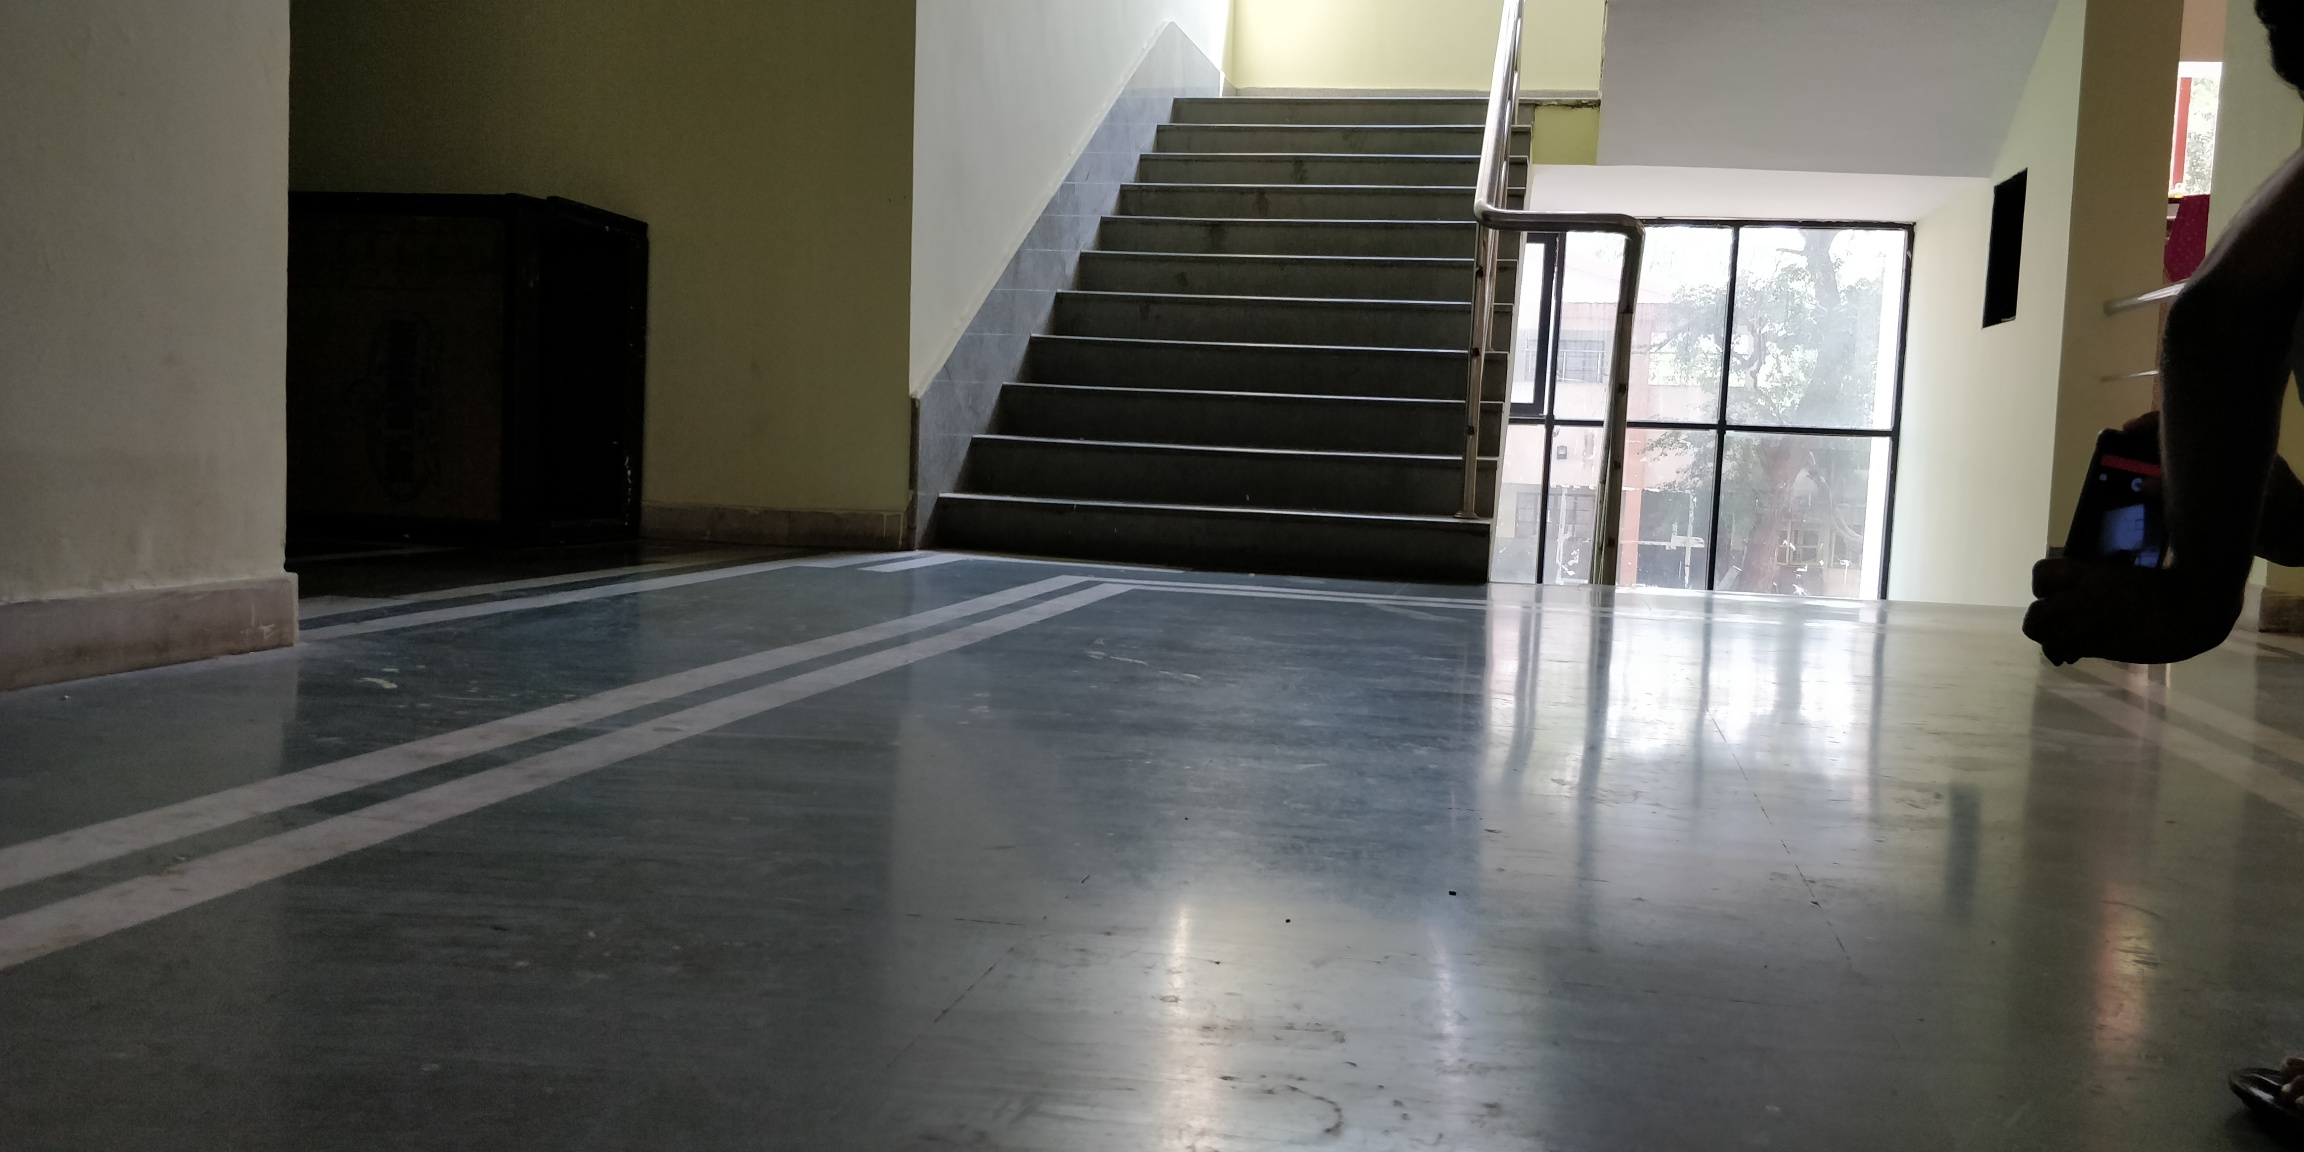stairs_up: (920, 90, 1543, 598)
